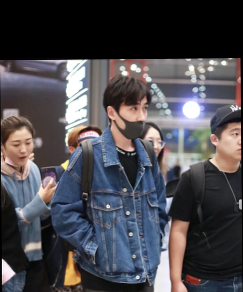mask_weared_incorrect: (116, 100, 151, 141), (4, 135, 34, 167)
without_mask: (219, 126, 241, 161), (143, 127, 162, 158)
